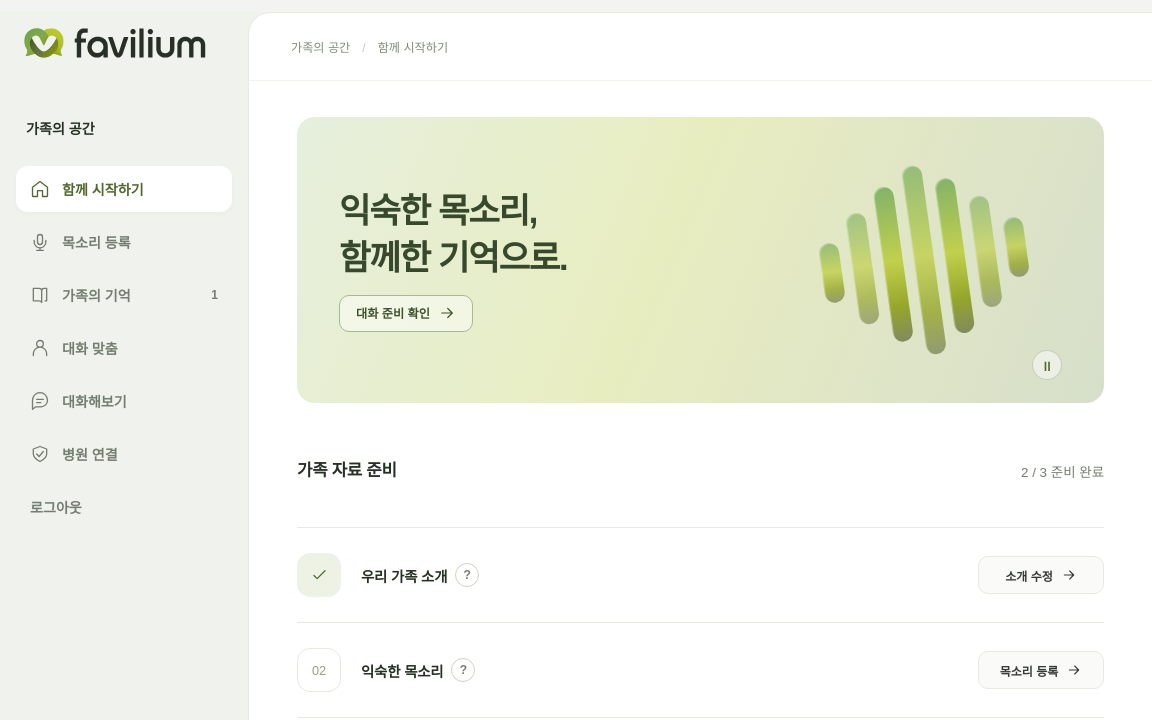
Test: 가족 시연 공간 › 연결된 실제 상태를 표시하고 공급자 없이 등록 성공을 표시하지 않는다
Check: the text "2 / 3 준비 완료" is shown, box [1021,461,1104,481]
Click the link "목소리 등록". click: (80, 242)
box: [30,232,131,252]
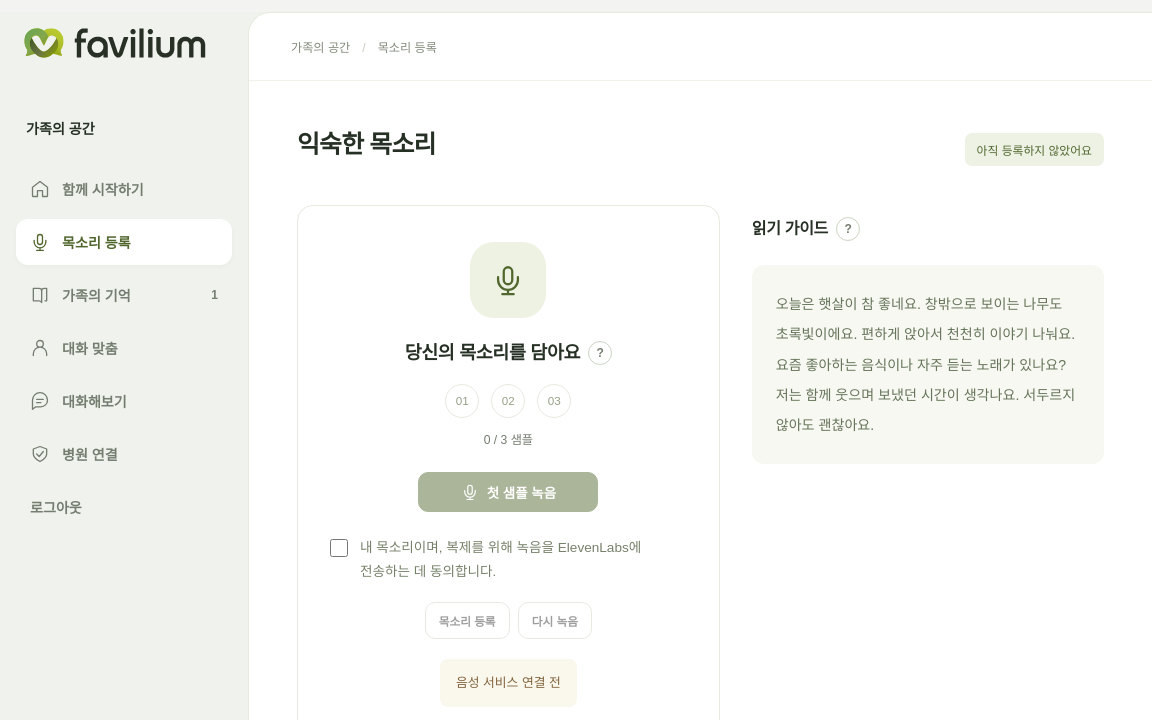
Check: the text "음성 서비스 연결 전" is shown, box [440,660,577,707]
Check: the button "첫 샘플 녹음" is disabled, box [418,472,598,512]
